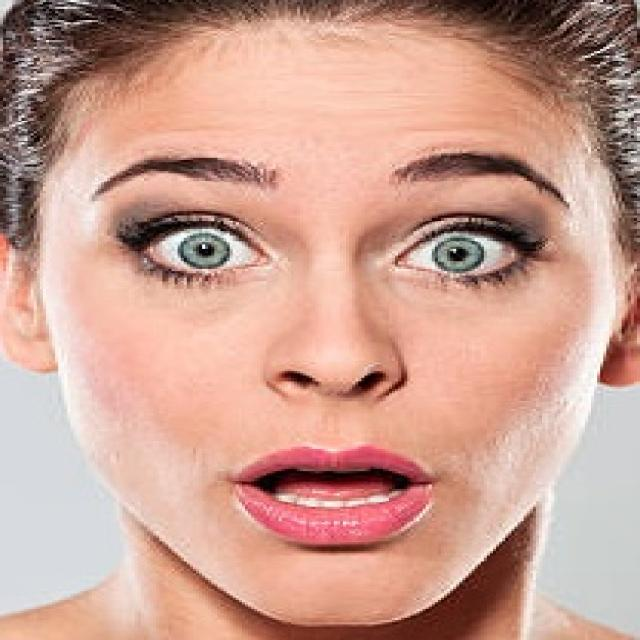Anxiety: (23, 21, 624, 619)
